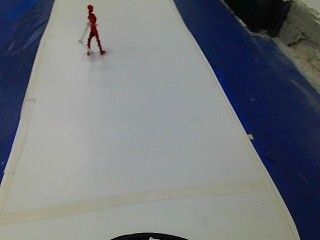pedestrian: (79, 2, 112, 54)
